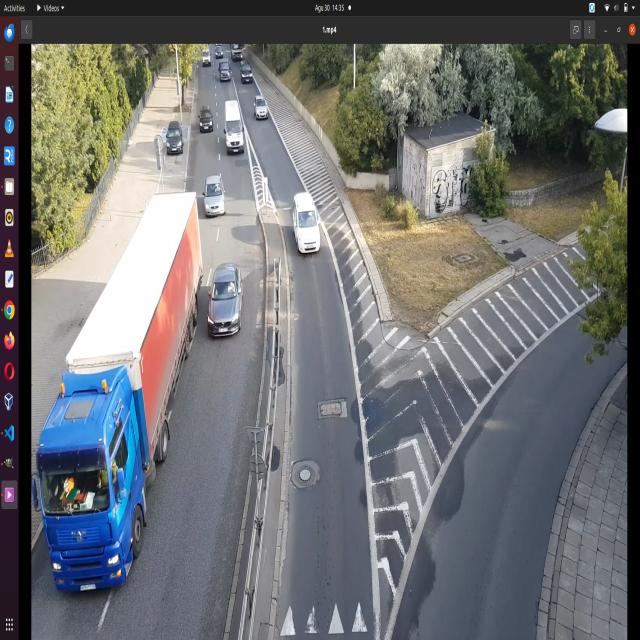person_with_seatbelt: (214, 183, 222, 196)
person_without_seatbelt: (228, 284, 236, 294)
